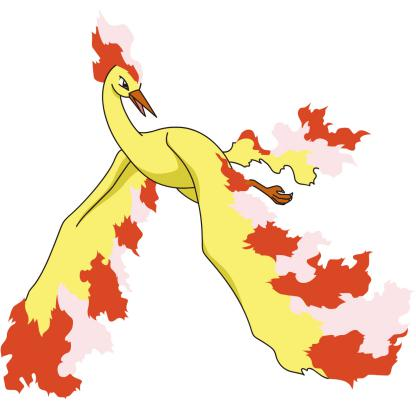Moltres: (1, 18, 416, 416)
